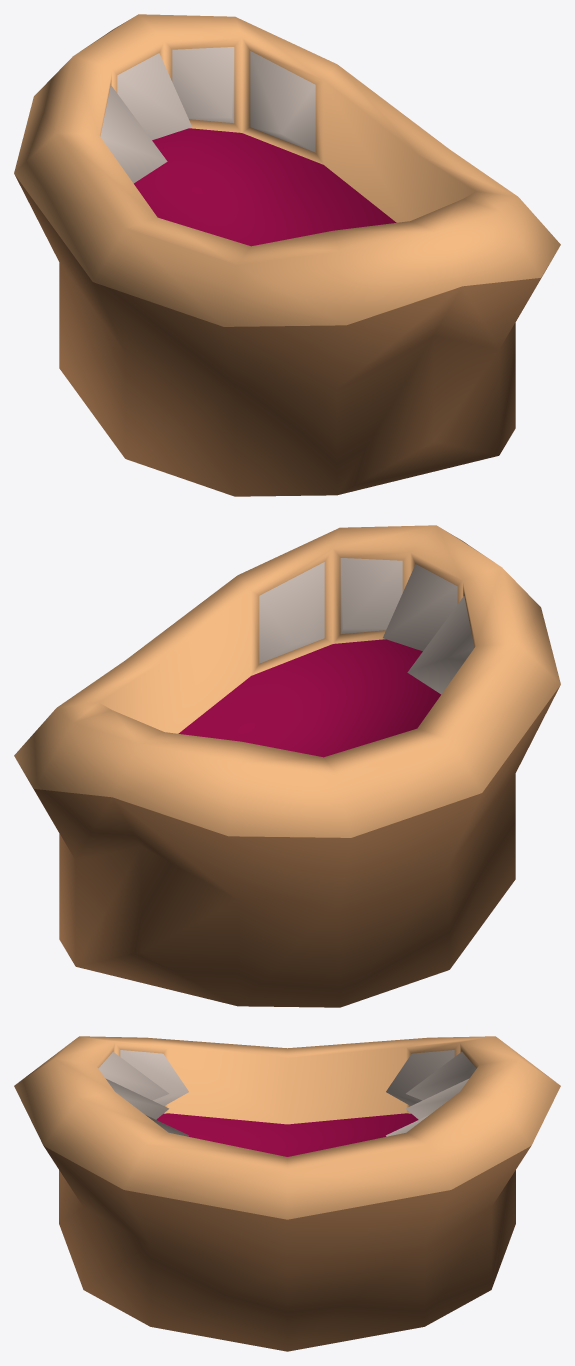
The model's file is Piragnaw.fbx.
The picture shows the model from 3 angles, top to bottom: view 1: azimuth 30°, elevation 25°; view 2: azimuth 150°, elevation 25°; view 3: azimuth 270°, elevation 25°; orthographic projection. The views are drawn at different scales.
Visible parts, largest first — view 1: Piragnaw - Haskipend; view 2: Piragnaw - Haskipend; view 3: Piragnaw - Haskipend.
Part boxes in pixels (left/top/right/bottom): Piragnaw - Haskipend: left=14, top=14, right=560, bottom=496; Piragnaw - Haskipend: left=14, top=525, right=560, bottom=1007; Piragnaw - Haskipend: left=14, top=1036, right=560, bottom=1351.
Size of the model in its own units: 48.52 by 35.25 by 75.61.
